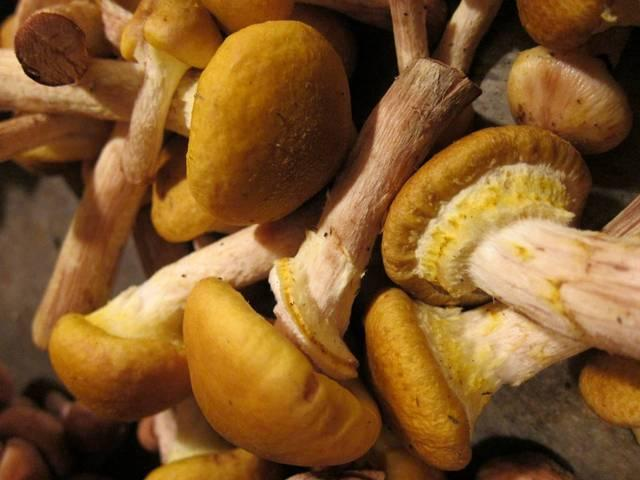edible_mushroom: (4, 2, 640, 480)
